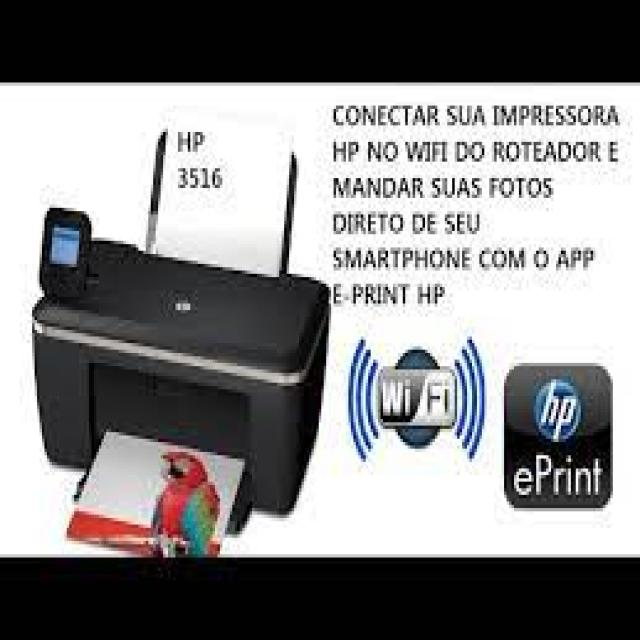printer: (25, 111, 334, 559)
